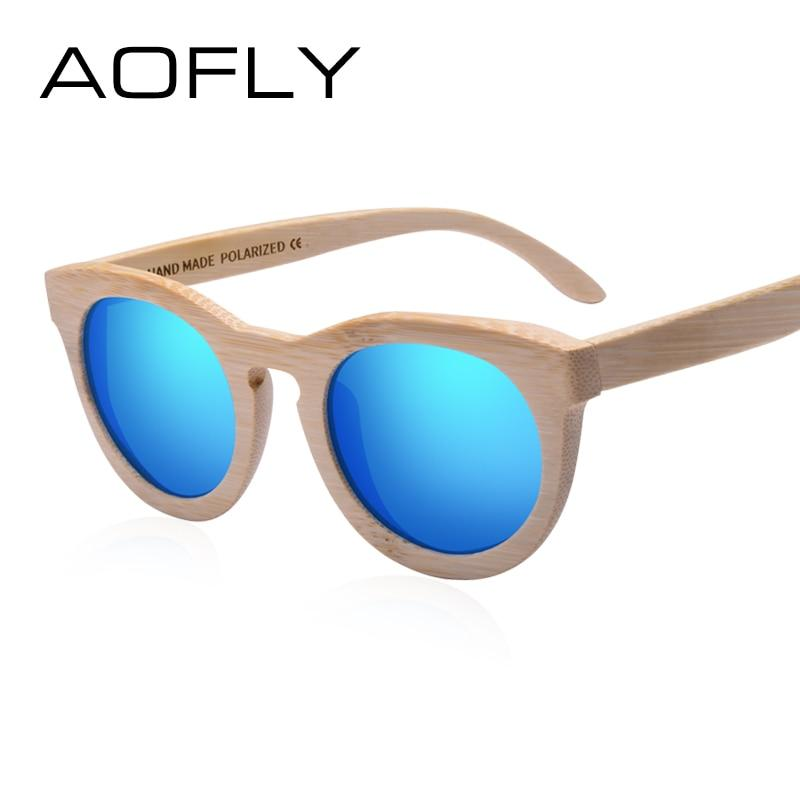sunglasses: (18, 204, 794, 576)
